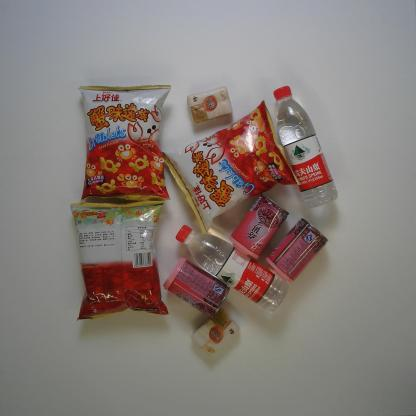Canned Food: (265, 218, 329, 284), (162, 257, 230, 319), (228, 193, 290, 260)
Drink: (174, 224, 289, 313), (273, 85, 338, 210)
Puffed Food: (161, 100, 302, 235), (70, 200, 170, 321), (77, 84, 173, 204)
Tissue: (191, 312, 239, 356), (187, 87, 234, 124)
